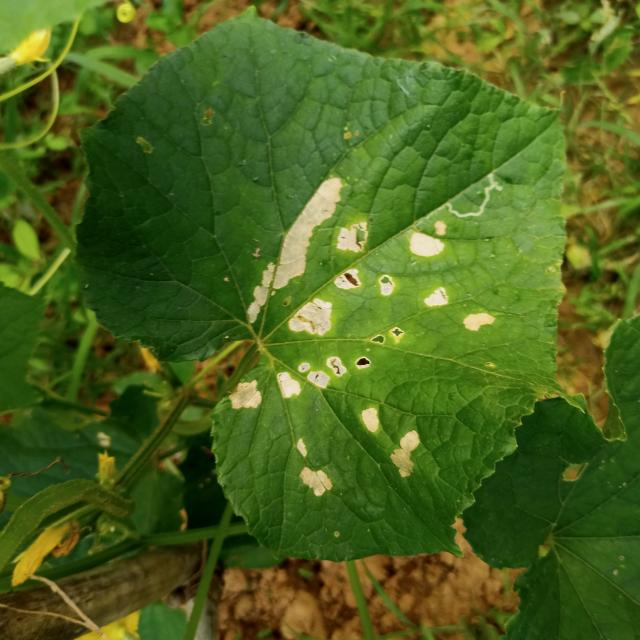disease_cucumber: (232, 175, 372, 339), (222, 323, 409, 417), (371, 218, 504, 348), (287, 399, 434, 502)
